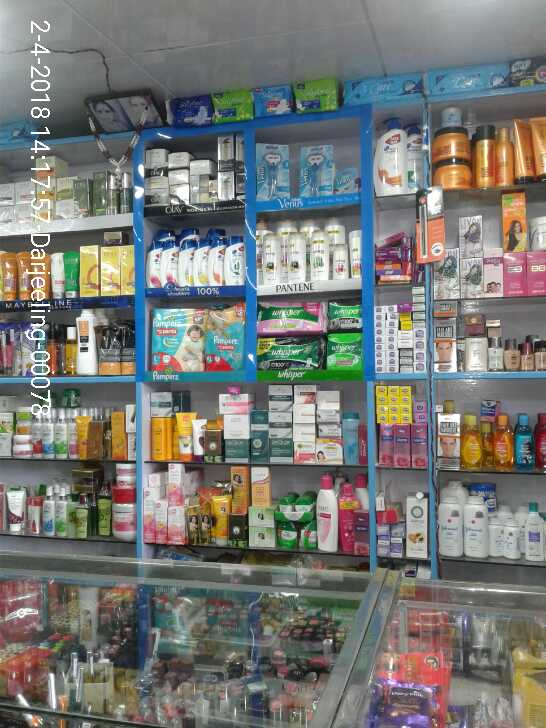venus: (256, 139, 293, 203), (302, 144, 332, 191), (332, 170, 358, 191)
